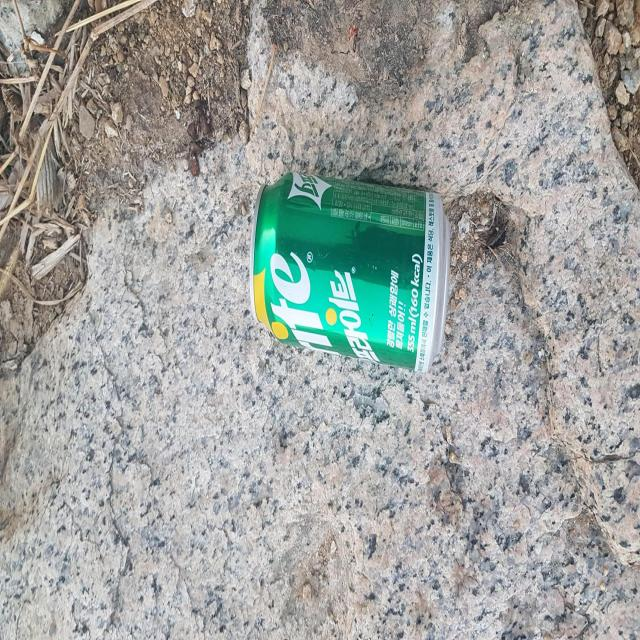can: (250, 171, 451, 371)
